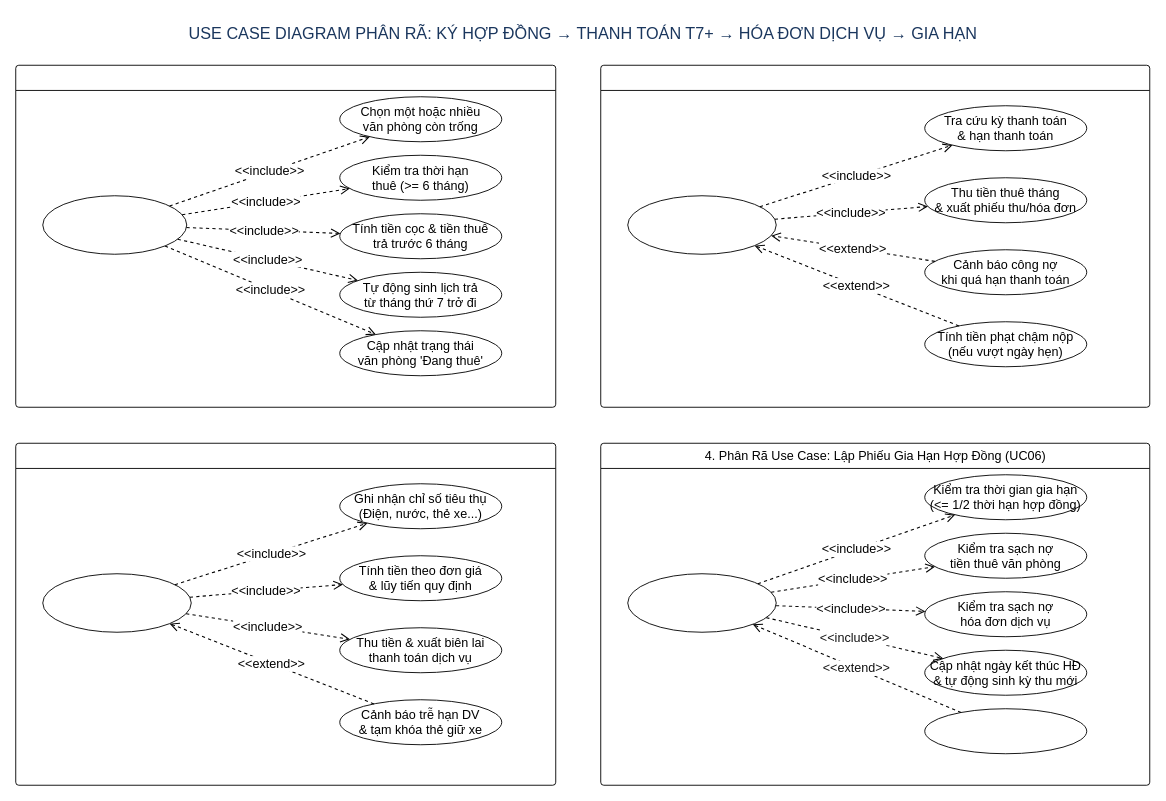
The diagram is 1166 pixels wide and 801 high, and some of its shapes have lost their labels. The shapes that lost their labels are listed below. From the top down, each one's box as (x1, y1, x2, y2) in pixels, then its label:
(42, 195, 187, 254): Ký hợp đồng thuê VP (>=6 tháng)
(15, 64, 556, 407): 1. Phân Rã Use Case: Ký Hợp Đồng Thuê Văn Phòng (UC03)
(627, 195, 776, 254): Thanh toán tiền thuê T7+ (Đầu mỗi tháng)
(600, 64, 1150, 407): 2. Phân Rã Use Case: Thanh Toán Tiền Thuê Văn Phòng T7+ (UC04)
(42, 573, 191, 632): Lập & thu hóa đơn DV (Cuối mỗi tháng)
(15, 442, 556, 785): 3. Phân Rã Use Case: Quản Lý & Thu Hóa Đơn Dịch Vụ (UC05)
(627, 573, 776, 632): Lập phiếu gia hạn HĐ (<=1/2 TG gốc, sạch nợ)
(924, 708, 1087, 754): Từ chối gia hạn & thông báo (nếu còn nợ / vượt 1/2 TG)
